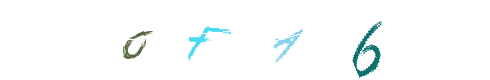6: (327, 0, 407, 80)
A: (209, 0, 289, 80)
F: (204, 0, 284, 80)
O: (154, 0, 234, 80)
